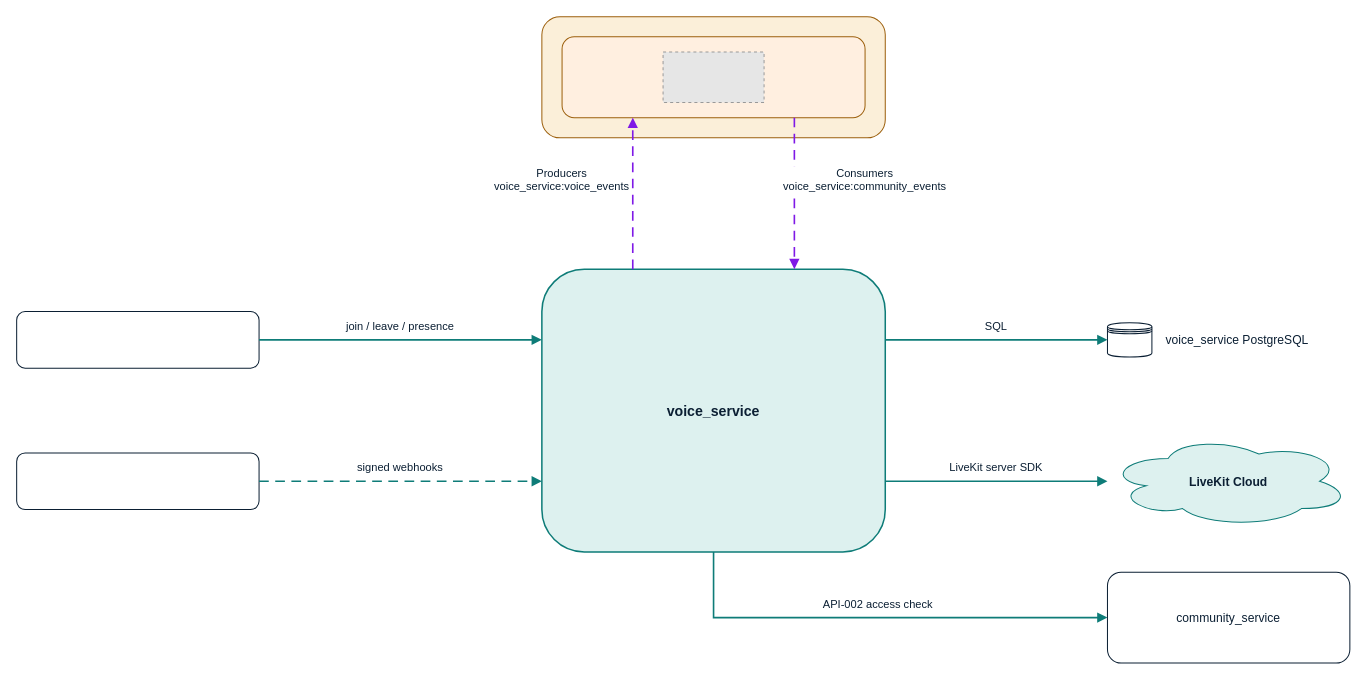
Image size: 1367x680. Some labels were removed from this diagram. Grey dashed boxes stand in for pictures. The centre of each missing label's shape, as x and y in pixels:
LiveKit webhooks: (x=137, y=481)
Member browser clients: (x=137, y=339)
